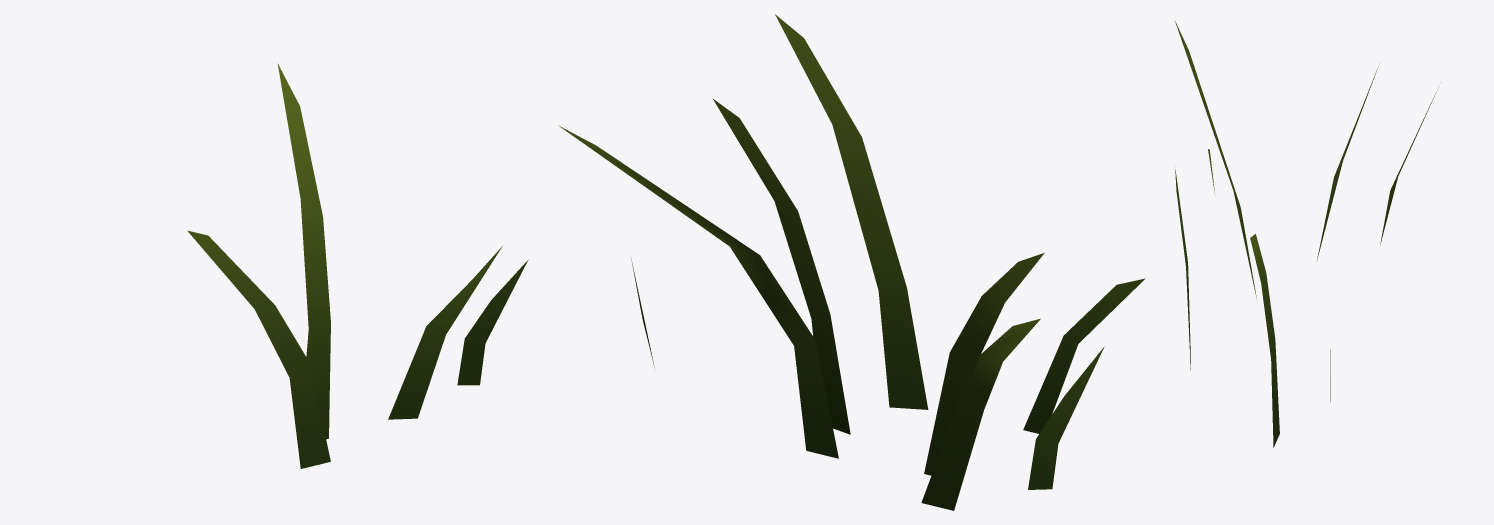
Rendered from decor-marais-herbe-0.glb.
The picture shows the model from 3 angles, left to right: view 1: azimuth 30°, elevation 25°; view 2: azimuth 150°, elevation 25°; view 3: azimuth 270°, elevation 25°; orthographic projection. The views are drawn at different scales.
Parts seen in each view (by area): view 1: decor:marais:herbe:0; view 2: decor:marais:herbe:0; view 3: decor:marais:herbe:0.
Boxes of the visible parts, x1,y1,x2,y2 form: decor:marais:herbe:0: (187,63,528,468); decor:marais:herbe:0: (558,14,1145,510); decor:marais:herbe:0: (1175,21,1437,447).
Size of the model in its own units: 0.5367 by 0.45 by 0.3169.
Materials: 1 (1 with a texture image).
